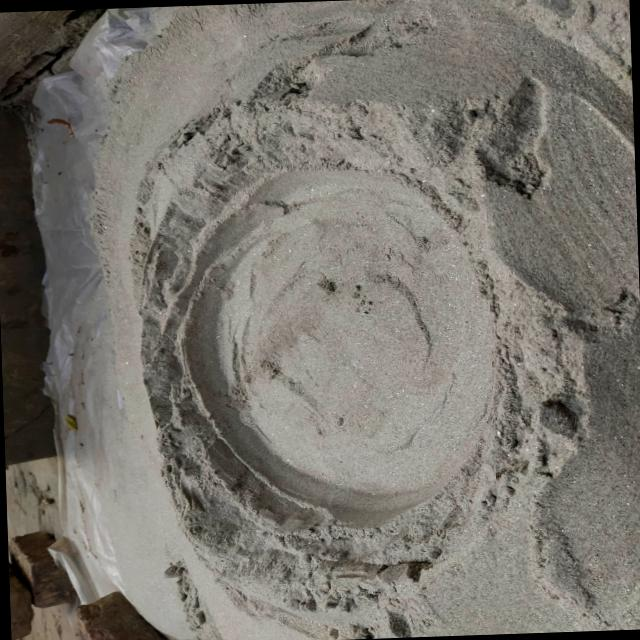C40: (182, 169, 492, 523)
